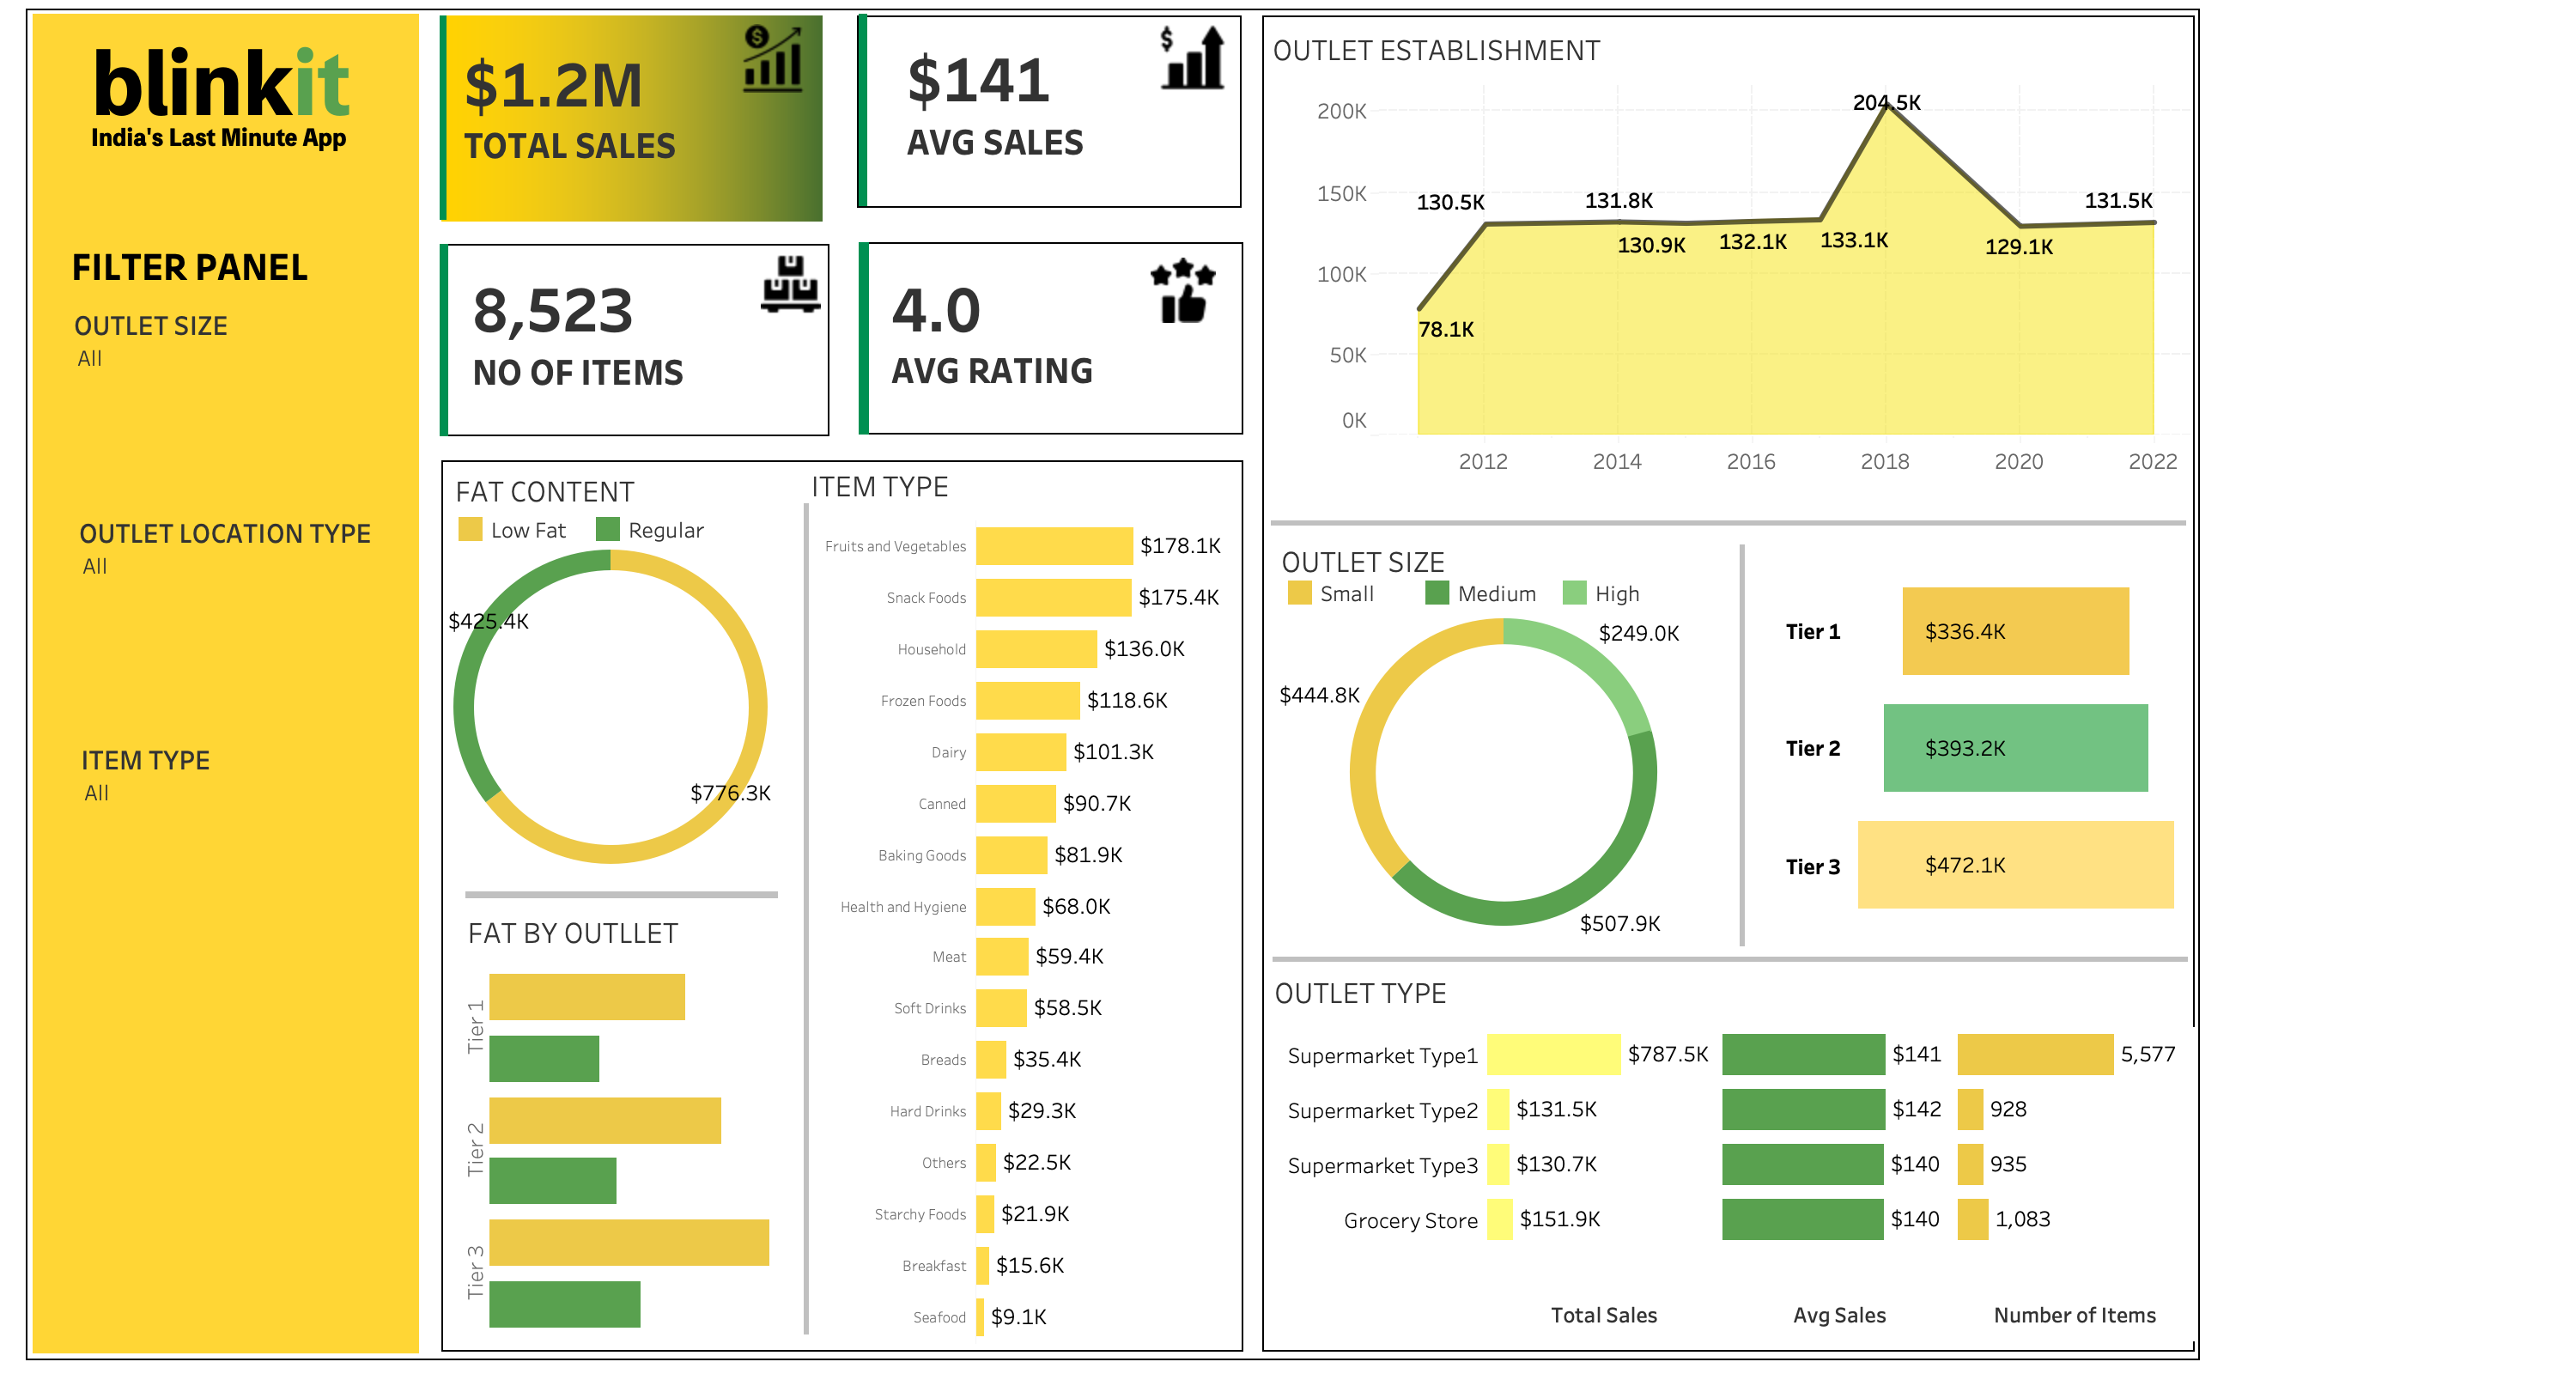

What the dashboard file says about the page in this screenshot:
{"tool":"tableau","page":{"name":"Dashboard 1","canvas":[1500,800],"ordinal":0},"visuals":[{"type":"blank","box":[15,5,1266,787]},{"type":"blank","box":[19,8,225,780]},{"type":"blank","box":[500.4,8,4.3,112]},{"type":"blank","box":[256,9,4,119]},{"type":"image","param":"Image/background kpi.png","box":[257.1,9,223.9,120]},{"type":"blank","box":[499.3,9,223.9,112]},{"type":"text","box":[42.9,11,171.4,76]},{"type":"worksheet","title":"OUTLET ESTABLISHMENT","mark":"Area","rows":["Sales","Sales"],"cols":["Outlet Establishment Year"],"box":[737.1,11,540,272]},{"type":"image","param":"Image/Sales.png","box":[429.6,14,48.2,40]},{"type":"image","param":"Image/Avg Sales.png","box":[675,14,42.9,39]},{"type":"worksheet","title":"avg blikit","mark":"Automatic","box":[523.9,15,195,88]},{"type":"worksheet","title":"Blinkit","mark":"Automatic","box":[265.7,19,161.8,85]},{"type":"text","box":[41.8,71,171.4,19]},{"type":"text","box":[39,140,166,30]},{"type":"blank","box":[500.4,141,223.9,112]},{"type":"blank","box":[500.4,141,5.4,112]},{"type":"blank","box":[256.1,142,5.4,112]},{"type":"blank","box":[259.3,142,223.9,112]},{"type":"image","param":"Image/Items.png","box":[442.5,148,35.4,41]},{"type":"image","param":"Image/rating (1).png","box":[669.6,150,45,38]},{"type":"worksheet","title":"number of items","mark":"Automatic","box":[271.1,151,161.8,84]},{"type":"worksheet","title":"avg ratinh","mark":"Automatic","box":[515.4,151,161.8,83]},{"type":"filter","title":"OUTLET SIZE","param":"[federated.0vnebj81jv0r131esqqb802qypfd].[none:Outlet Size:nk]","box":[43,178,182,51]},{"type":"worksheet","title":"ITEM TYPE","mark":"Automatic","rows":["Item Type"],"cols":["Sales"],"box":[468,265,253,518]},{"type":"worksheet","title":"FAT CONTENT","mark":"Pie","cols":["Calculation_102175453961224208","Calculation_102175453961224208"],"box":[261.4,268,188.6,249]},{"type":"blank","box":[468,293,3,484]},{"type":"legend","title":"FAT CONTENT","param":"[federated.0vnebj81jv0r131esqqb802qypfd].[none:Calculation_2606106477415550979:n","box":[263.6,298,183.2,26]},{"type":"filter","title":"TIER WISE","param":"[federated.0vnebj81jv0r131esqqb802qypfd].[none:Outlet Location Type:nk]","box":[46,299,180,60]},{"type":"blank","box":[740,303,533,3]},{"type":"worksheet","title":"OUTLET SIZE","mark":"Pie","cols":["Calculation_102175453945167886","Calculation_102175453945167886"],"box":[742,309,267,243]},{"type":"blank","box":[1013,317,3,234]},{"type":"worksheet","title":"TIER WISE","mark":"Bar","rows":["Outlet Location Type"],"cols":["Calculation_102175454061125651","Sales"],"box":[997,333,274,205]},{"type":"legend","title":"OUTLET SIZE","param":"[federated.0vnebj81jv0r131esqqb802qypfd].[none:Outlet Size:nk]","box":[747,335,310,26]},{"type":"filter","title":"ITEM TYPE","param":"[federated.0vnebj81jv0r131esqqb802qypfd].[none:Item Type:nk]","box":[47,431,176,75]},{"type":"blank","box":[271,519,182,4]},{"type":"worksheet","title":"FAT BY OUTLLET","mark":"Automatic","rows":["Outlet Location Type","Calculation_2606106477415550979"],"cols":["Sales"],"box":[265,525,191,252]},{"type":"blank","box":[741,557,533,3]},{"type":"worksheet","title":"OUTLET TYPE","mark":"Automatic","rows":["Outlet Type"],"cols":["Sales","Sales","Sales"],"box":[738,560,539,221]}]}

Visuals, with their boxes in screenshot pixels (x1, y1, x2, y2), scaled from the page's 1500x800 canvas onto the 2576x1374 screenshot:
blank: left=26, top=9, right=2200, bottom=1360
blank: left=33, top=14, right=419, bottom=1353
blank: left=860, top=14, right=866, bottom=206
blank: left=440, top=15, right=447, bottom=220
image: left=441, top=15, right=826, bottom=222
blank: left=858, top=15, right=1242, bottom=208
text: left=74, top=19, right=368, bottom=149
"OUTLET ESTABLISHMENT" worksheet (Area marks): left=1266, top=19, right=2193, bottom=486
image: left=738, top=24, right=821, bottom=93
image: left=1159, top=24, right=1233, bottom=91
"avg blikit" worksheet: left=900, top=26, right=1235, bottom=177
"Blinkit" worksheet: left=456, top=33, right=734, bottom=179
text: left=72, top=122, right=366, bottom=155
text: left=67, top=240, right=352, bottom=292
blank: left=860, top=242, right=1244, bottom=435
blank: left=860, top=242, right=869, bottom=435
blank: left=440, top=244, right=449, bottom=436
blank: left=446, top=244, right=829, bottom=436
image: left=760, top=254, right=821, bottom=325
image: left=1150, top=258, right=1227, bottom=323
"number of items" worksheet: left=465, top=259, right=744, bottom=404
"avg ratinh" worksheet: left=885, top=259, right=1163, bottom=402
"OUTLET SIZE" filter: left=74, top=306, right=386, bottom=393
"ITEM TYPE" worksheet: left=804, top=455, right=1238, bottom=1345
"FAT CONTENT" worksheet (Pie marks): left=449, top=460, right=773, bottom=888
blank: left=804, top=503, right=809, bottom=1334
"FAT CONTENT" legend: left=453, top=512, right=768, bottom=556
"TIER WISE" filter: left=79, top=514, right=388, bottom=617
blank: left=1271, top=520, right=2186, bottom=526
"OUTLET SIZE" worksheet (Pie marks): left=1274, top=531, right=1733, bottom=948
blank: left=1740, top=544, right=1745, bottom=946
"TIER WISE" worksheet (Bar marks): left=1712, top=572, right=2183, bottom=924
"OUTLET SIZE" legend: left=1283, top=575, right=1815, bottom=620
"ITEM TYPE" filter: left=81, top=740, right=383, bottom=869
blank: left=465, top=891, right=778, bottom=898
"FAT BY OUTLLET" worksheet: left=455, top=902, right=783, bottom=1334
blank: left=1273, top=957, right=2188, bottom=962
"OUTLET TYPE" worksheet: left=1267, top=962, right=2193, bottom=1341
